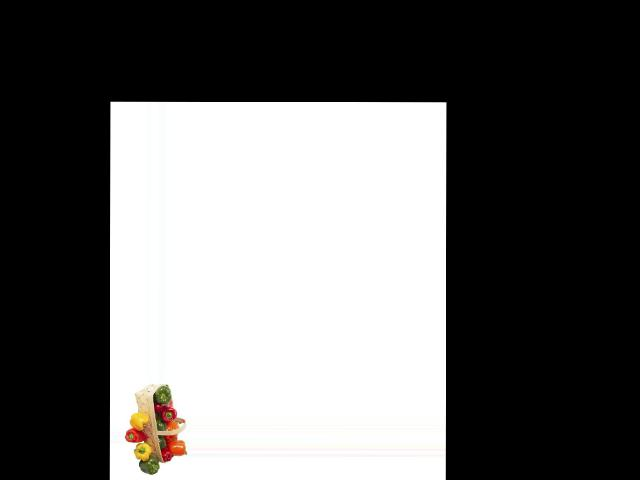bell_pepper: (155, 385, 171, 406)
